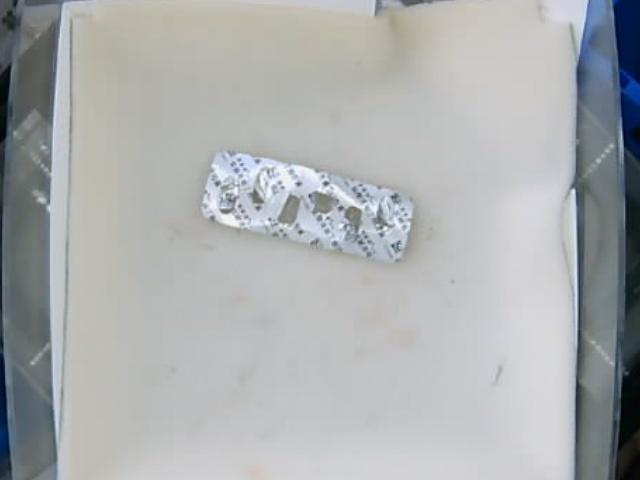Medicine: (201, 149, 418, 263)
